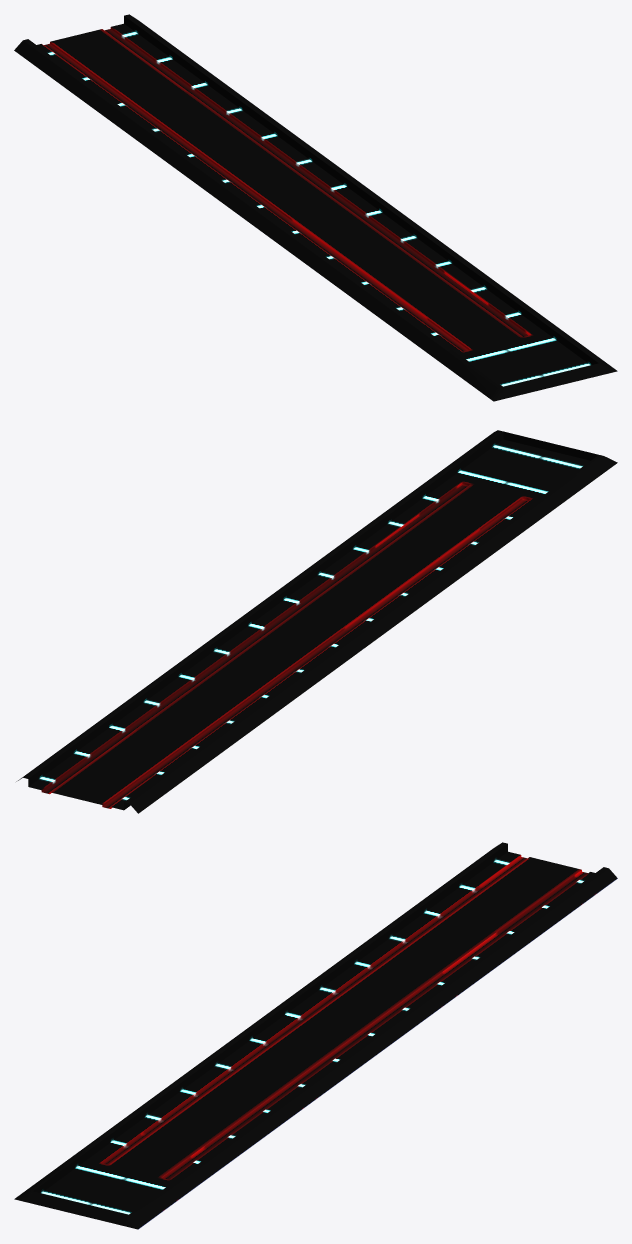
Rendered from bowlingramp.fbx.
The picture shows the model from 3 angles, top to bottom: view 1: azimuth 30°, elevation 25°; view 2: azimuth 150°, elevation 25°; view 3: azimuth 330°, elevation 25°; orthographic projection.
Parts seen in each view (by area): view 1: polySurface64; view 2: polySurface64; view 3: polySurface64.
Part boxes in pixels (left/top/right/bottom): polySurface64: left=14, top=14, right=617, bottom=401; polySurface64: left=16, top=430, right=617, bottom=813; polySurface64: left=14, top=842, right=617, bottom=1229.
Size of the model in its own units: 442 by 33.77 by 2953.
1 material, 1 textured.
